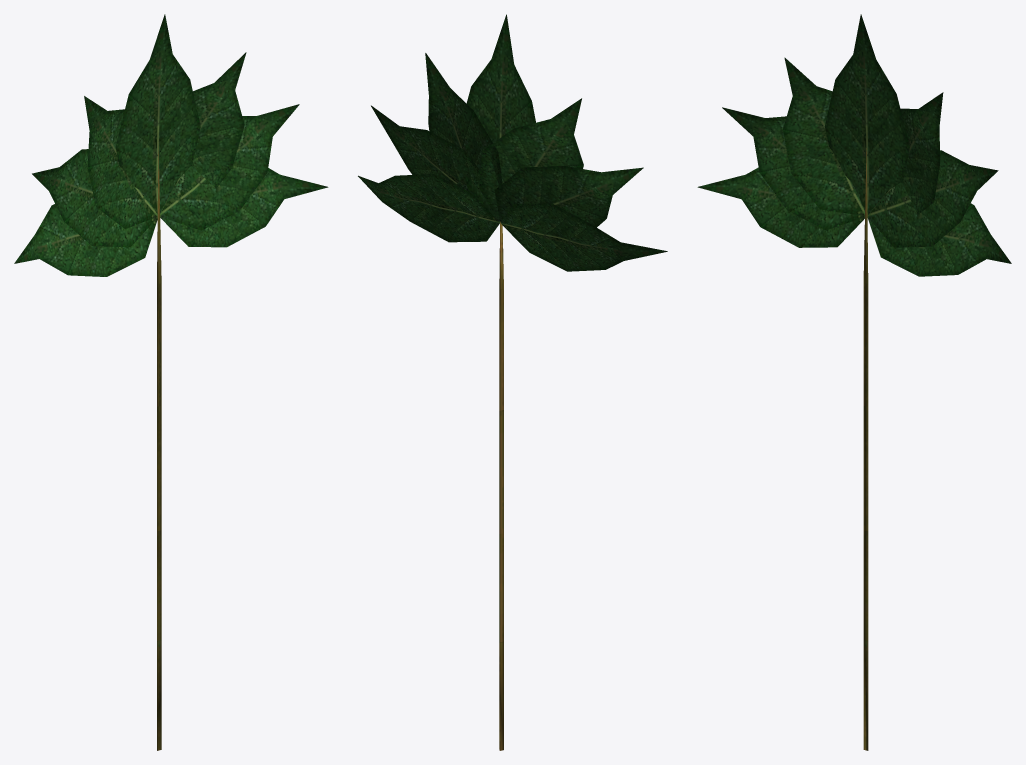
The model's file is eqp_palm_frond_l1.fbx.
The picture shows the model from 3 angles, left to right: view 1: azimuth 30°, elevation 25°; view 2: azimuth 150°, elevation 25°; view 3: azimuth 330°, elevation 25°; orthographic projection.
Visible parts, largest first — view 1: mesh_node; view 2: mesh_node; view 3: mesh_node.
Boxes of the visible parts, x1=… form: mesh_node: x1=14, y1=14, x2=328, y2=750; mesh_node: x1=358, y1=14, x2=667, y2=750; mesh_node: x1=697, y1=14, x2=1011, y2=750.
Size of the model in its own units: 1.18 by 2.66 by 0.1503.
1 material, 1 textured.
